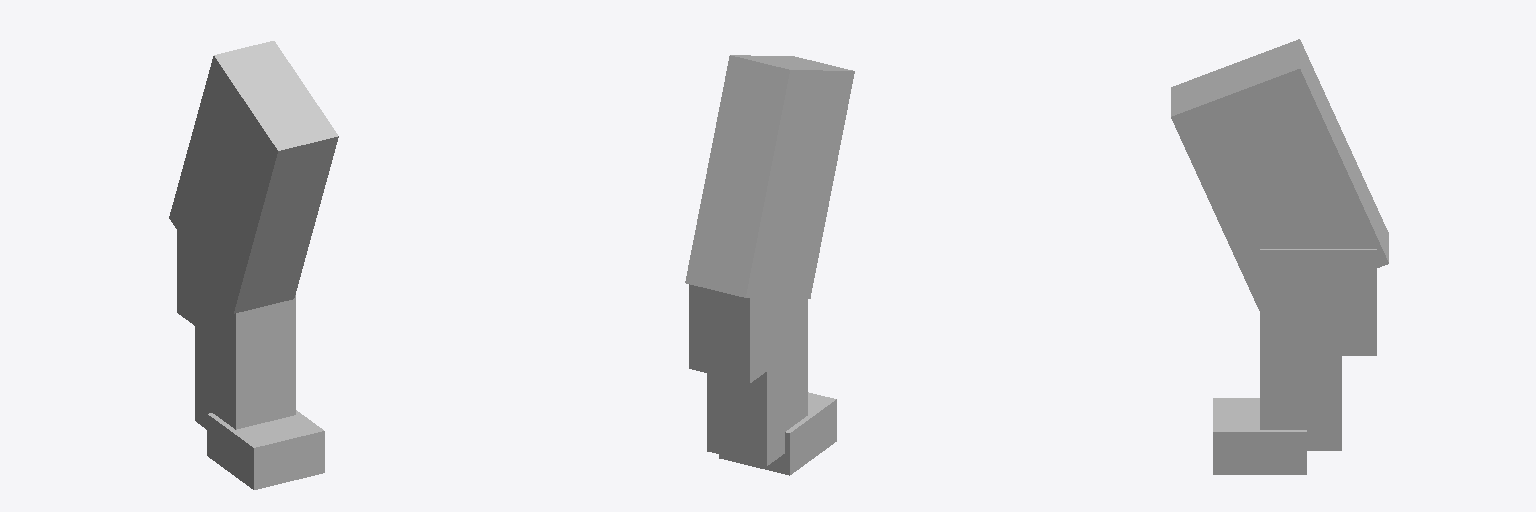
Rendered from tiger_front_right_leg.obj.
The picture shows the model from 3 angles: view 1: azimuth 30°, elevation 25°; view 2: azimuth 150°, elevation 25°; view 3: azimuth 270°, elevation 25°; orthographic projection.
Visible parts, largest first — view 1: Element #9, Element #11, Element #12, Element #10; view 2: Element #9, Element #10, Element #11, Element #12; view 3: Element #9, Element #11, Element #10, Element #12.
Boxes of the visible parts, box(x1,y1,x2,y2) form: Element #9: box(169, 41, 338, 313); Element #11: box(195, 284, 295, 429); Element #12: box(207, 410, 324, 489); Element #10: box(177, 231, 295, 355); Element #9: box(685, 55, 854, 298); Element #10: box(689, 284, 807, 383); Element #11: box(707, 315, 807, 465); Element #12: box(719, 392, 836, 475); Element #9: box(1171, 39, 1388, 310); Element #11: box(1260, 313, 1341, 450); Element #10: box(1260, 249, 1376, 355); Element #12: box(1213, 398, 1306, 474).
Bounding box in the file's own units: 3.5 × 19.03 × 9.37.